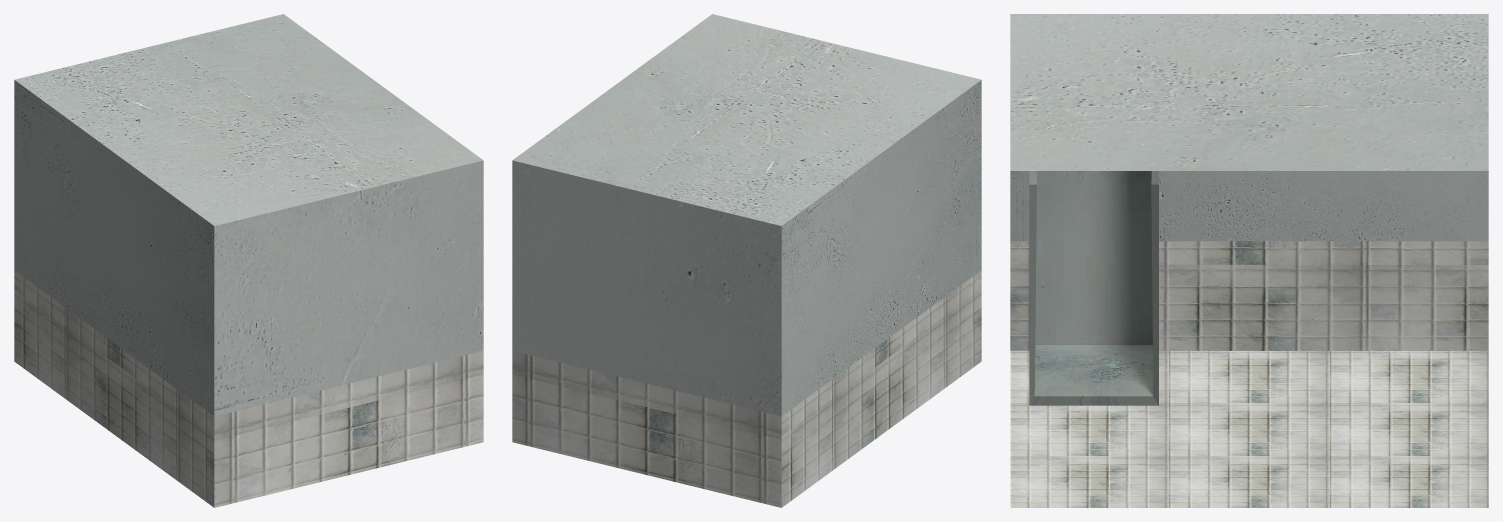
Rendered from FinalROOMs.fbx.
3 views of the same model, side by side, from view 1: azimuth 30°, elevation 25°; view 2: azimuth 150°, elevation 25°; view 3: azimuth 270°, elevation 25° (orthographic). The views are drawn at different scales.
Parts seen in each view (by area): view 1: Cube; view 2: Cube; view 3: Cube, Cube.001.
Part boxes in pixels (left/top/right/bottom): Cube: left=14, top=14, right=483, bottom=507; Cube: left=512, top=14, right=981, bottom=507; Cube: left=1010, top=14, right=1488, bottom=507; Cube.001: left=1029, top=171, right=1158, bottom=405.
Size of the model in its own units: 183 by 183 by 235.
4 materials, 4 textured.
